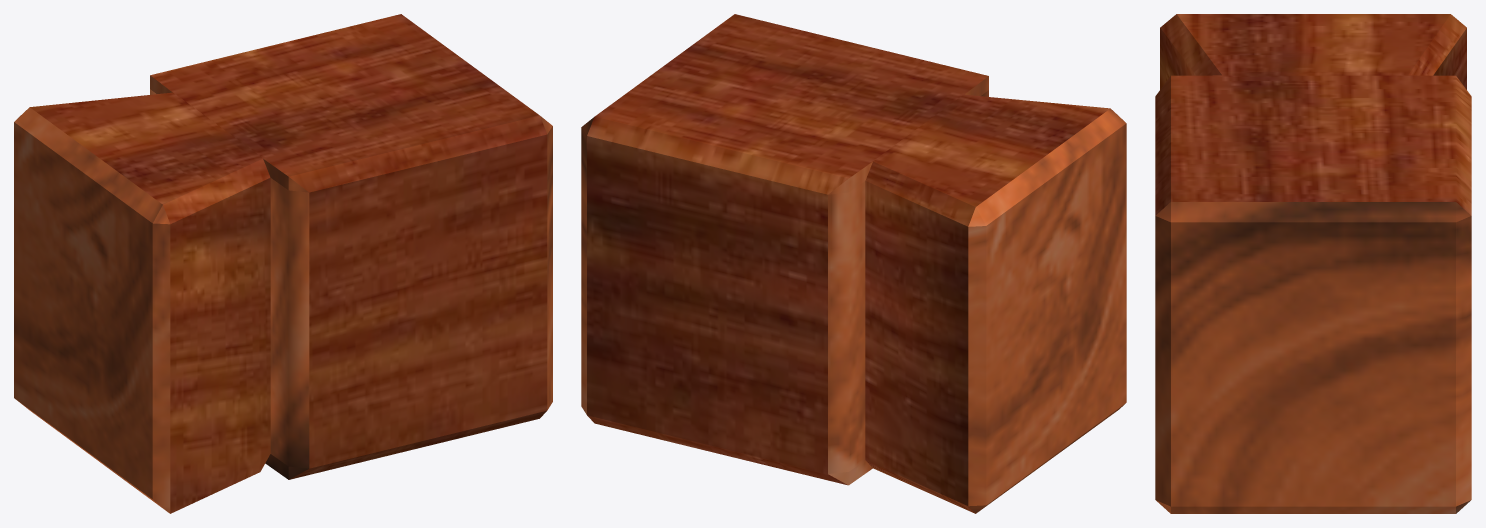
Rendered from baxianzhuo_J_saizi_03.FBX.
3 renders of one model, left to right at view 1: azimuth 30°, elevation 25°; view 2: azimuth 150°, elevation 25°; view 3: azimuth 270°, elevation 25°, orthographic. The views are drawn at different scales.
Visible parts, largest first — view 1: baxianzhuo_J_saizi_03; view 2: baxianzhuo_J_saizi_03; view 3: baxianzhuo_J_saizi_03.
Boxes of the visible parts, x1,y1,x2,y2 form: baxianzhuo_J_saizi_03: [14, 14, 552, 513]; baxianzhuo_J_saizi_03: [581, 14, 1126, 513]; baxianzhuo_J_saizi_03: [1155, 14, 1471, 513].
Bounding box in the file's own units: 1.85 × 1.34 × 1.23.
